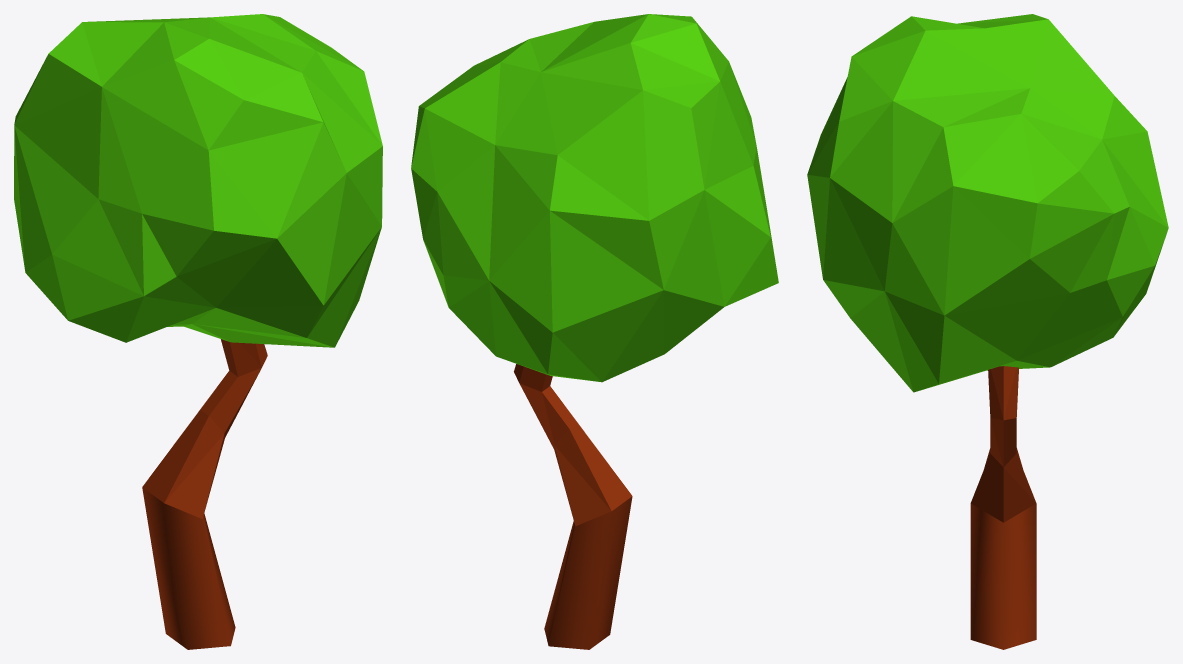
File: low_poly_tree.obj
The picture shows the model from 3 angles, left to right: view 1: azimuth 30°, elevation 25°; view 2: azimuth 150°, elevation 25°; view 3: azimuth 270°, elevation 25°; orthographic projection. The views are drawn at different scales.
Visible parts, largest first — view 1: lowpolytree2; view 2: lowpolytree2; view 3: lowpolytree2.
Boxes of the visible parts, bbox=[...] form: lowpolytree2: bbox=[14, 14, 382, 649]; lowpolytree2: bbox=[411, 14, 778, 649]; lowpolytree2: bbox=[807, 14, 1168, 649].
Bounding box in the file's own units: 65.79 × 121 × 67.59.
